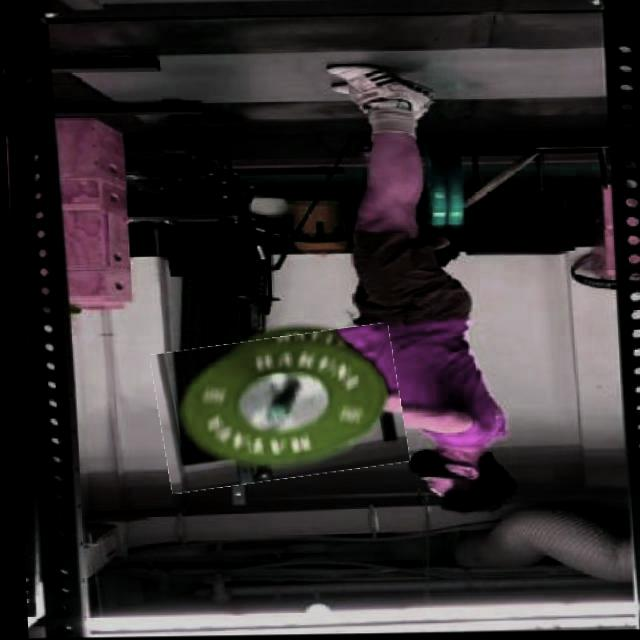barbell: (150, 330, 404, 487)
